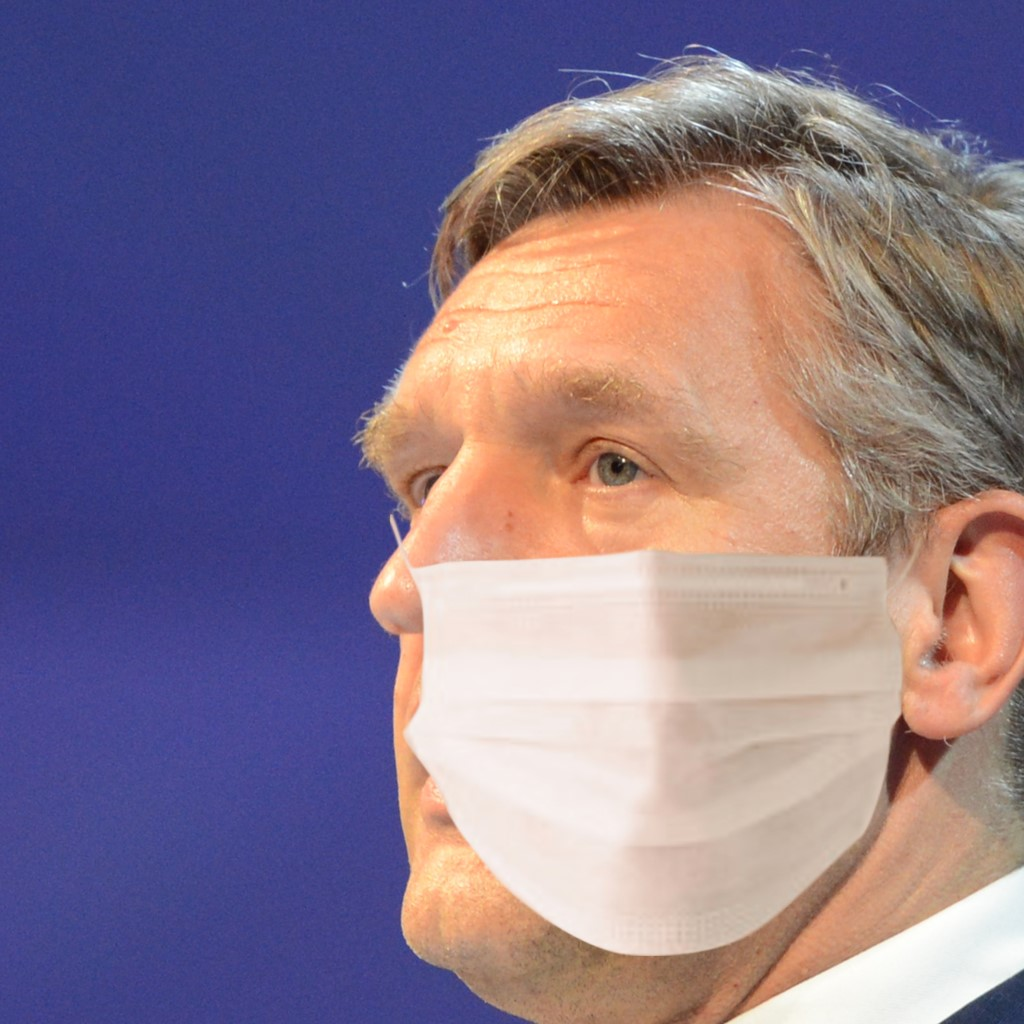con_mascara: (378, 190, 981, 979)
